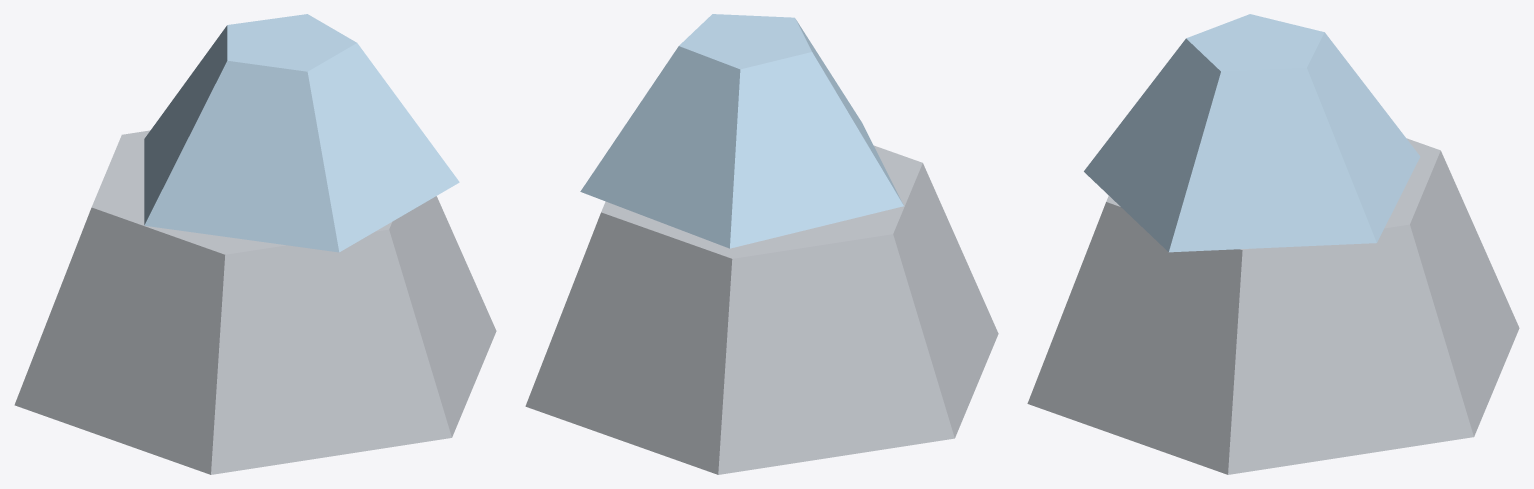
The model's file is iceberg.obj.
3 renders of one model, left to right at view 1: azimuth 30°, elevation 25°; view 2: azimuth 150°, elevation 25°; view 3: azimuth 270°, elevation 25°, orthographic. The views are drawn at different scales.
Parts seen in each view (by area): view 1: iceberg; view 2: iceberg; view 3: iceberg.
Boxes of the visible parts, bbox=[...] form: iceberg: bbox=[14, 14, 496, 474]; iceberg: bbox=[525, 14, 998, 474]; iceberg: bbox=[1027, 14, 1519, 474].
Size of the model in its own units: 9.85 by 7 by 9.4.
